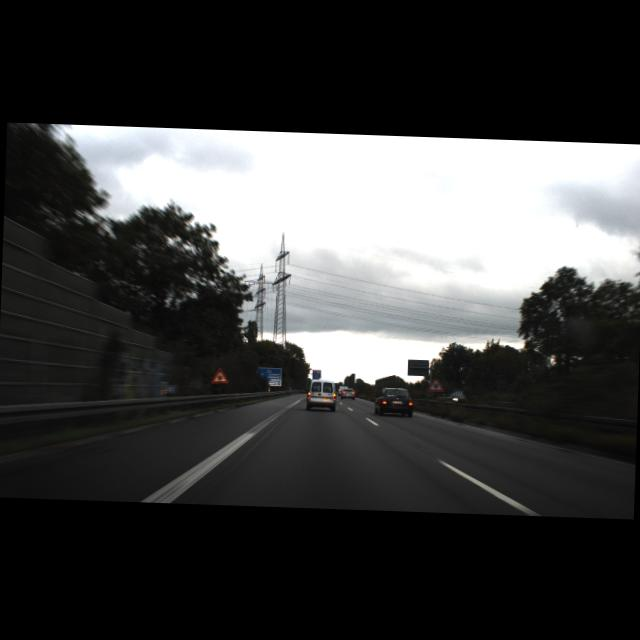danger: (426, 374, 446, 391), (210, 366, 228, 383)
